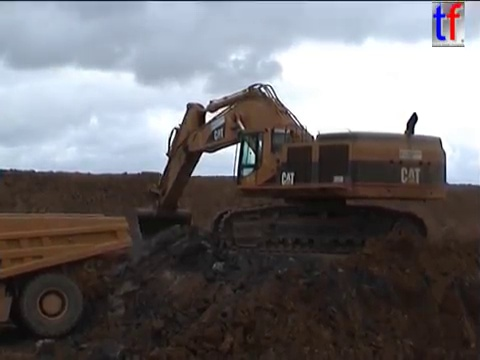excavator: (125, 79, 446, 268)
truck: (1, 208, 134, 338)
